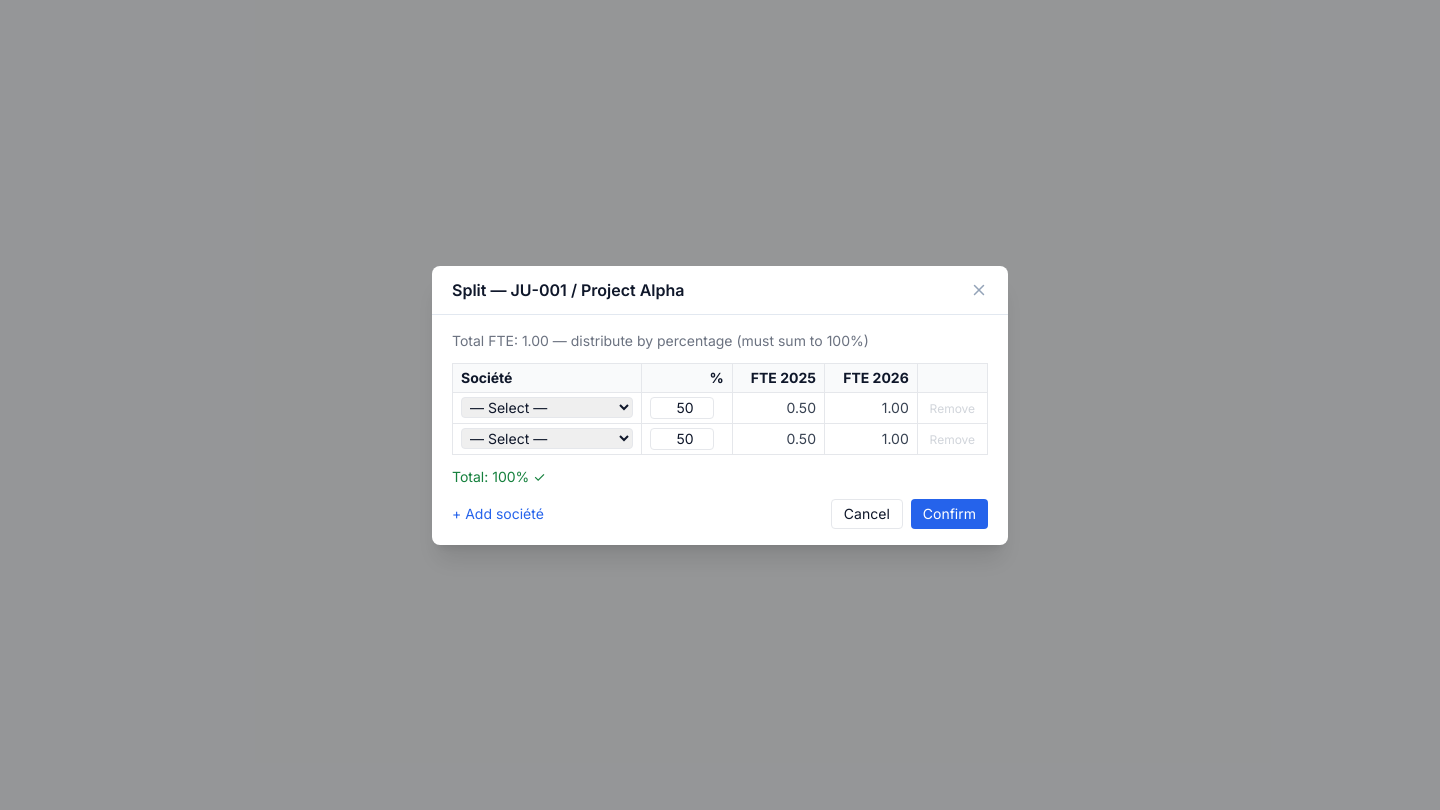
SplitModal › Confirm disabled when percentages do not sum to 100 (ALLOC-BR-11)
Replace the text in the 1st number field with "30". click: (682, 408)
box: [650,396,714,418]
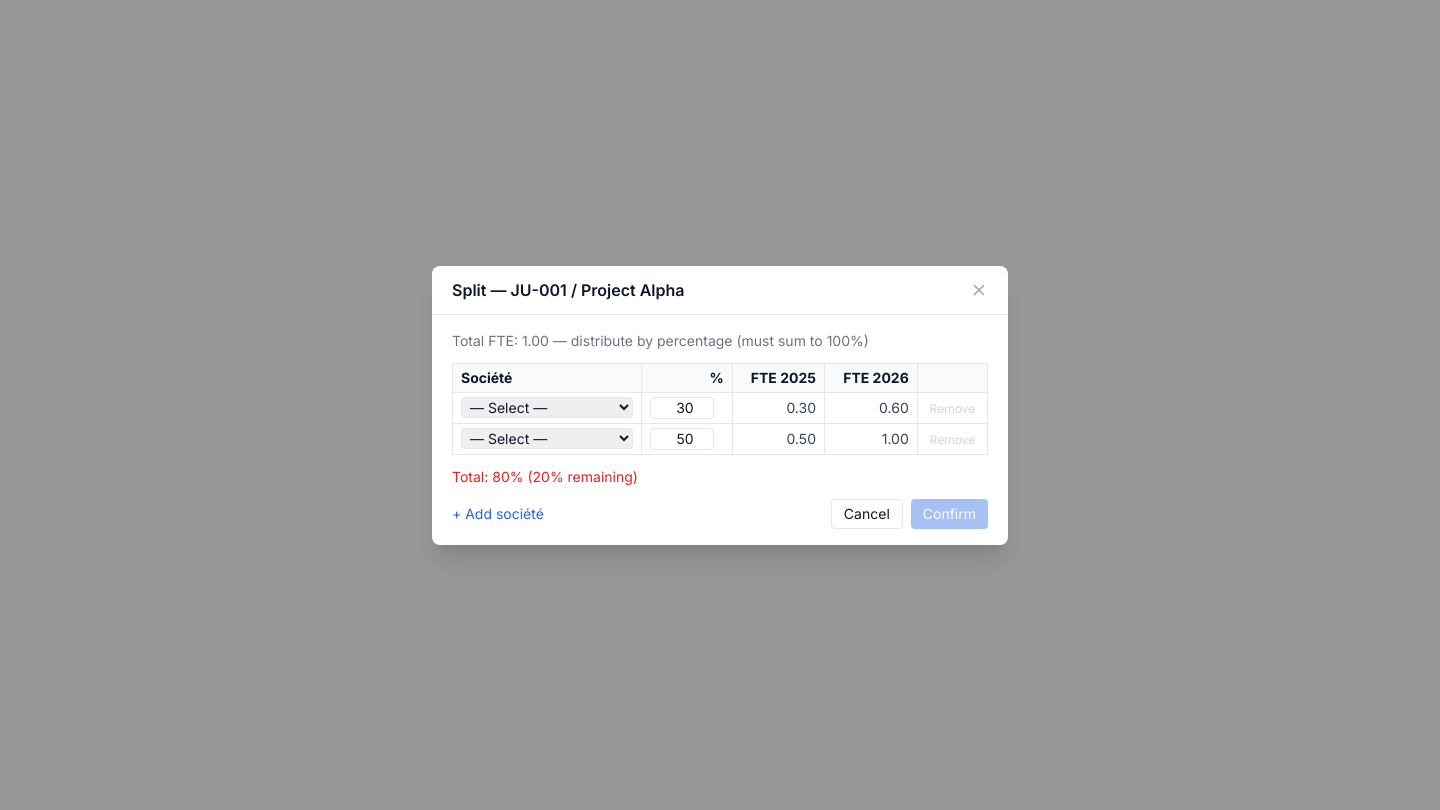
Result: the button "Confirm" is disabled at [911,498,988,528]
